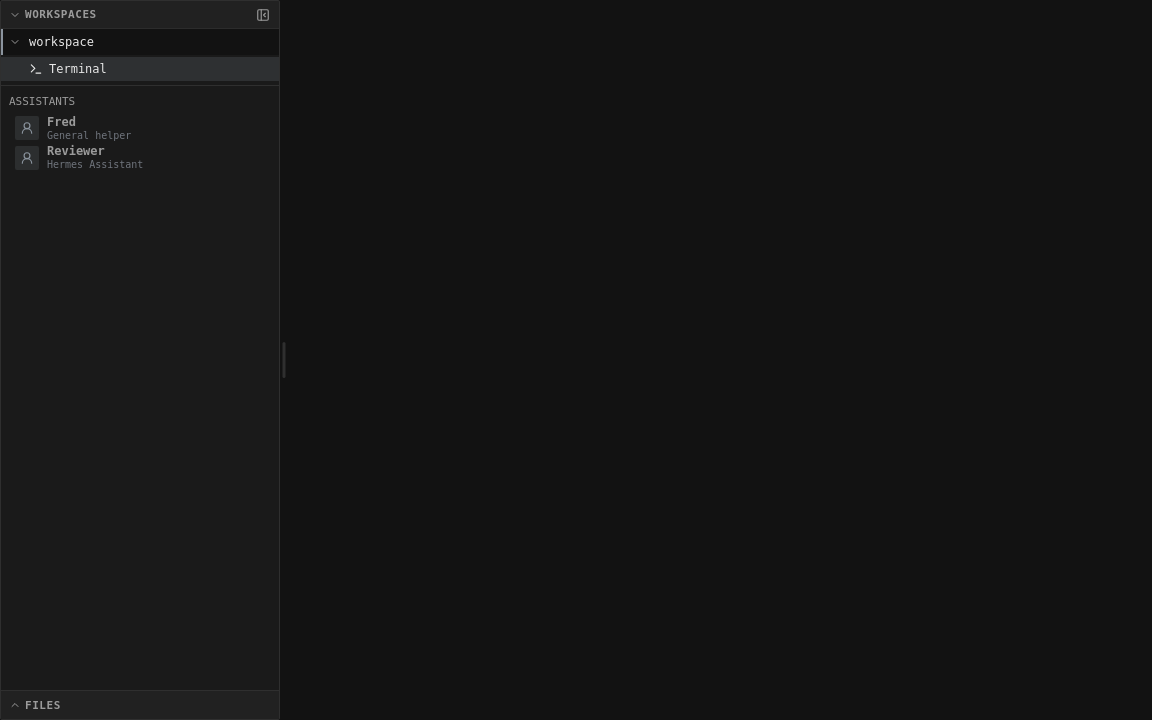
Test: the status bar names the Assistant instead of showing a workspace path or branch
This screenshot has width=1152, height=720.
Step 1. Click the button "Fred General helper" → point(89, 135), box [9,114,271,142]
(page scrolled)
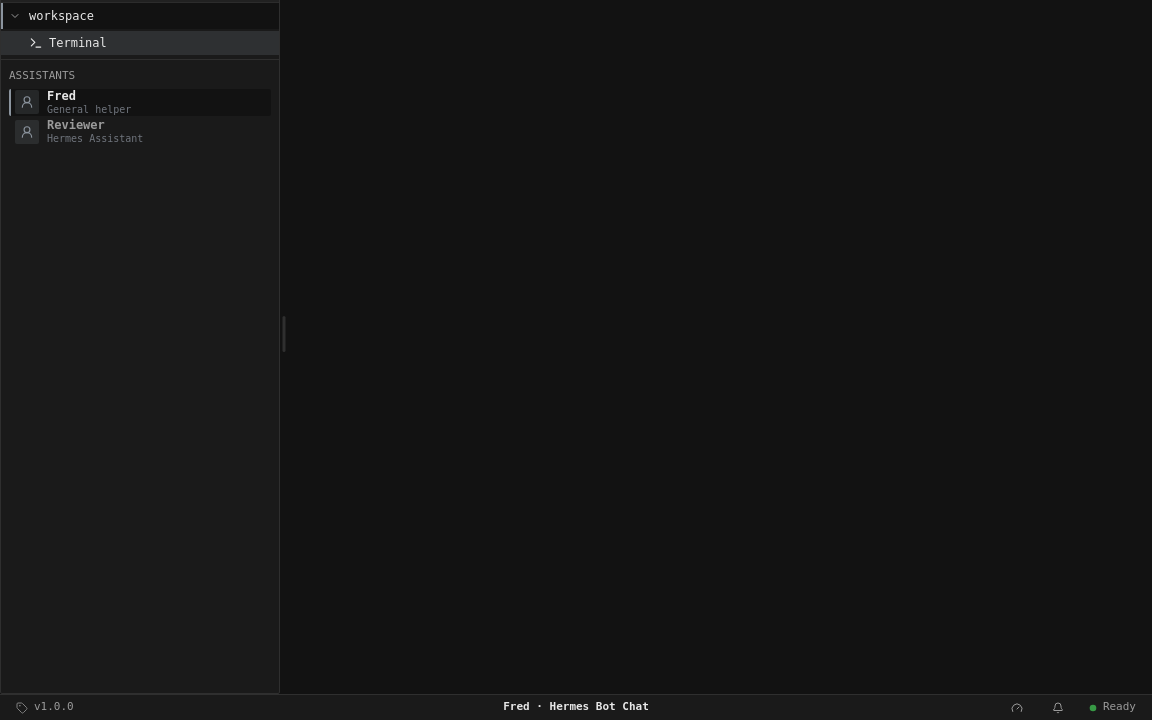
Result: the text with test id "status-assistant" reads "Fred · Hermes Bot Chat" at [503,699,649,716]
